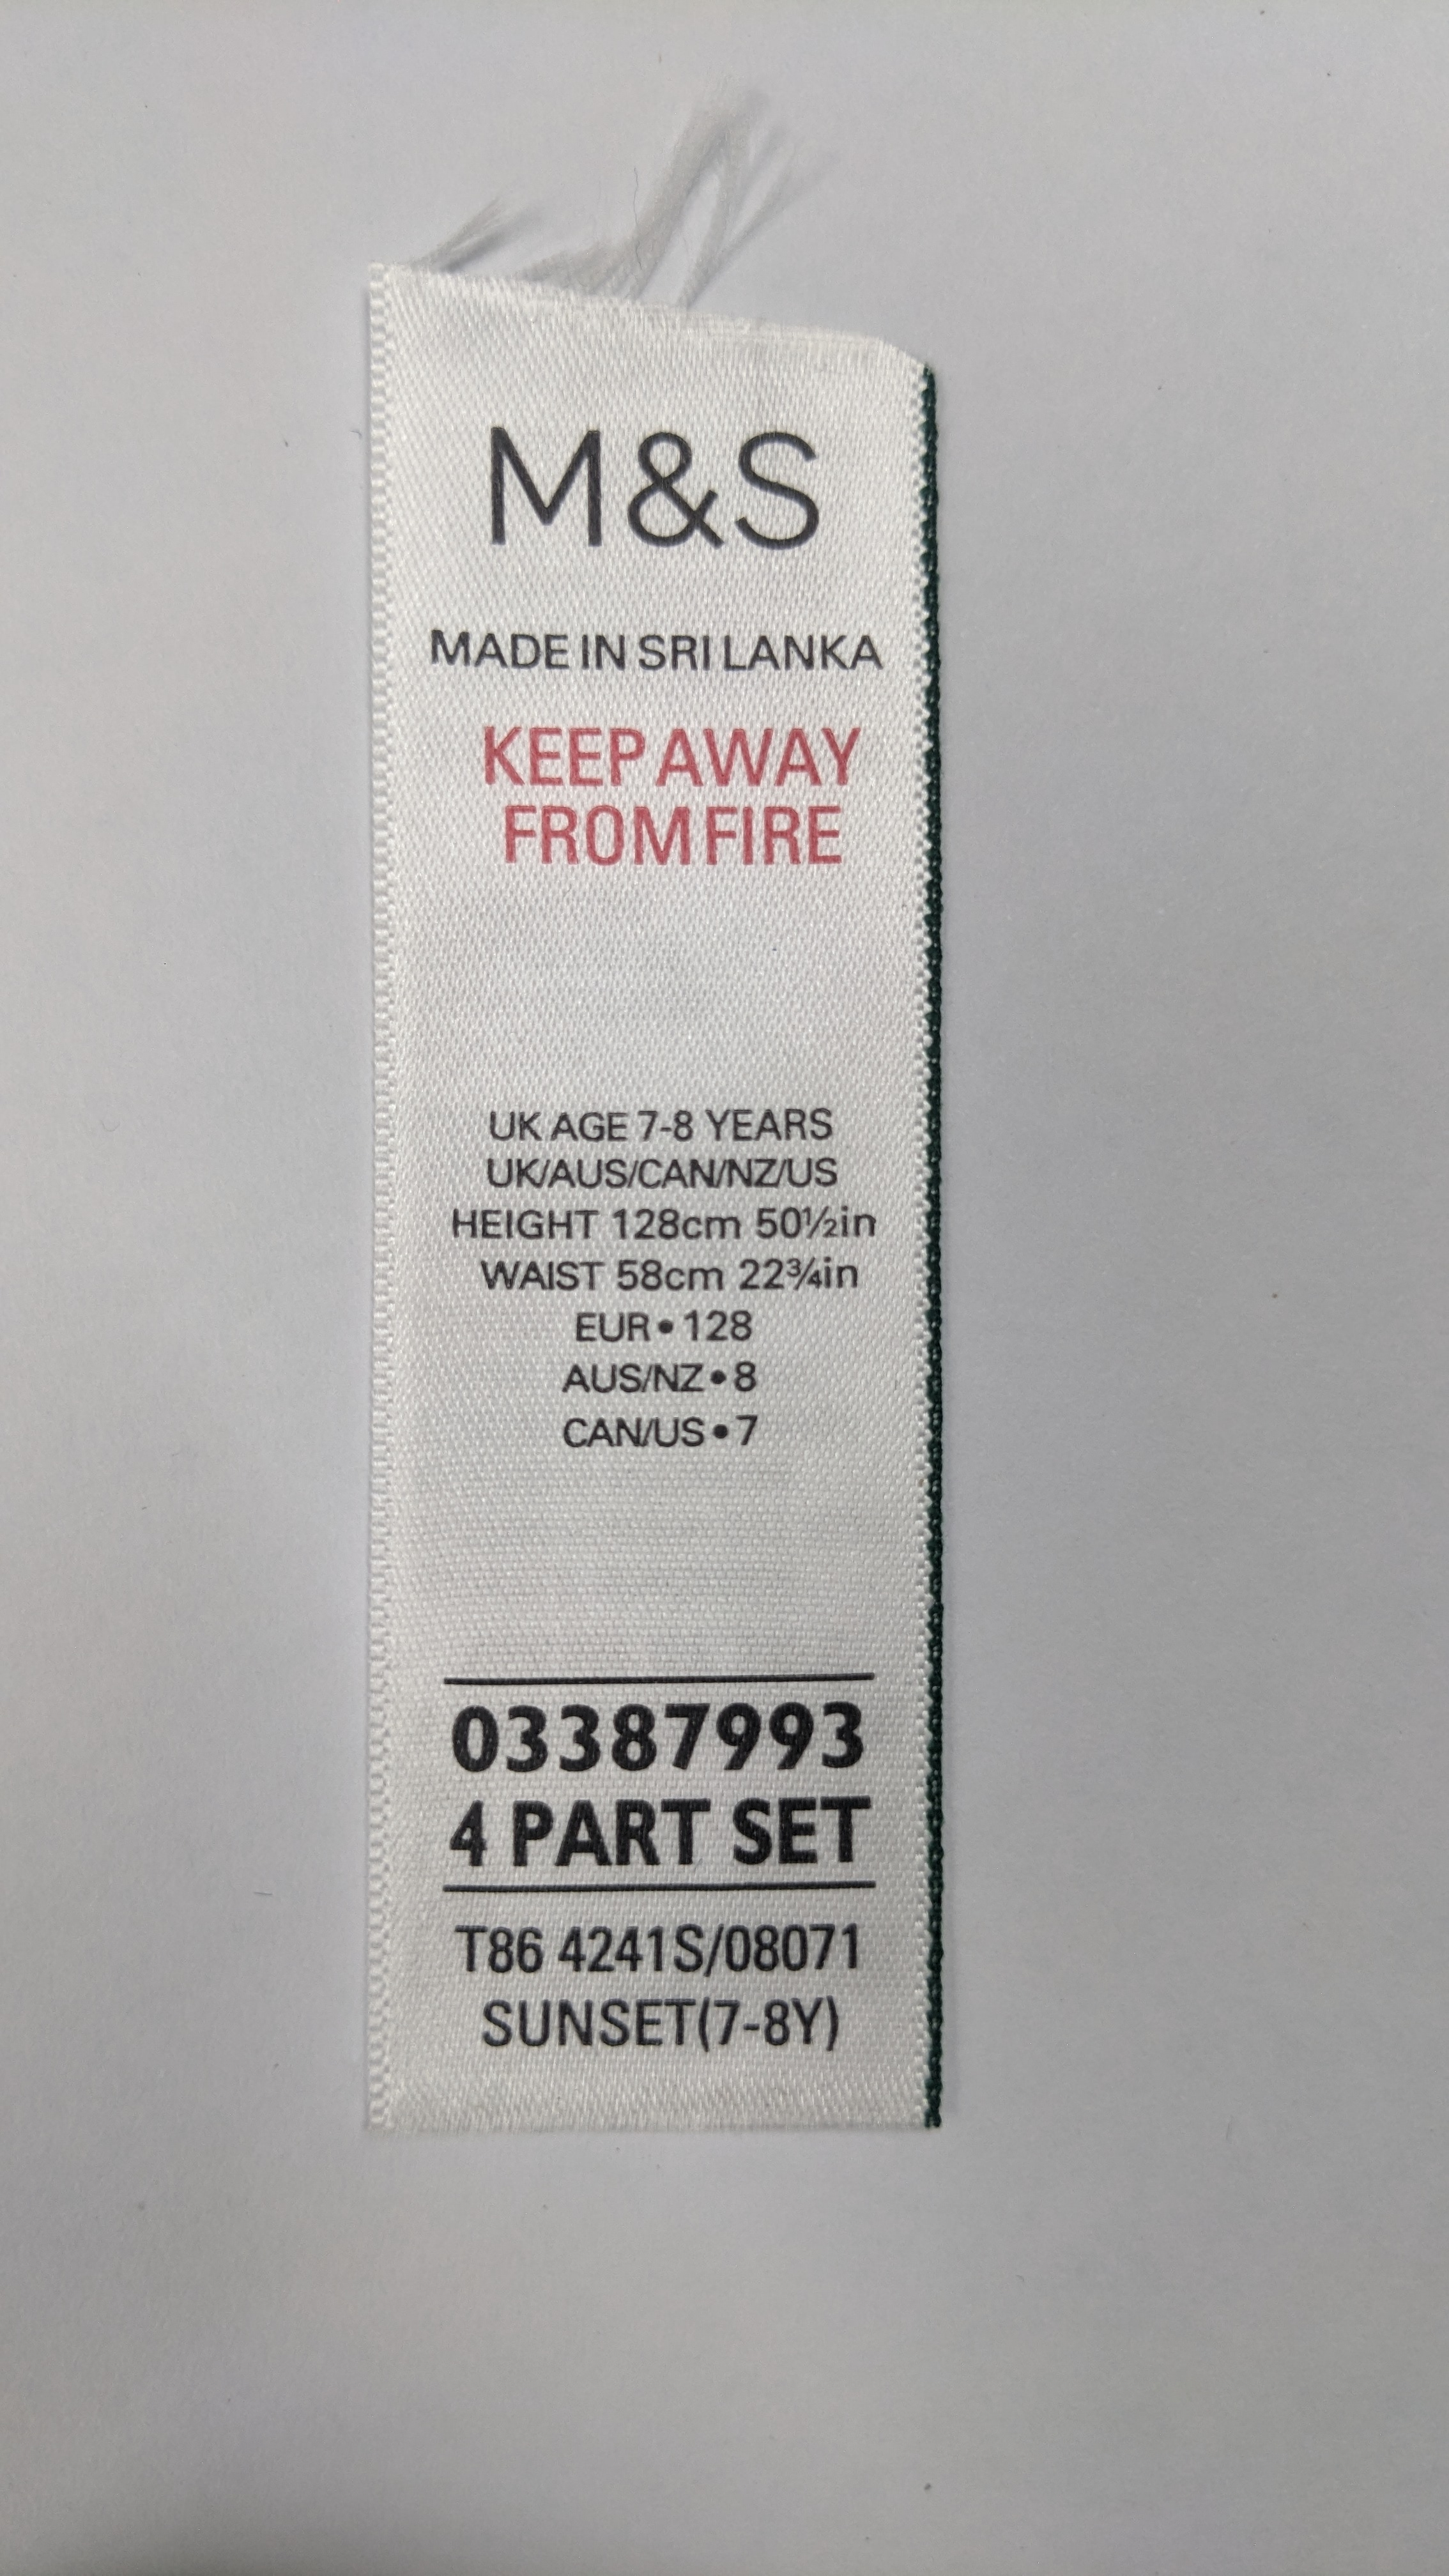Damaged_label: (343, 127, 964, 2155)
